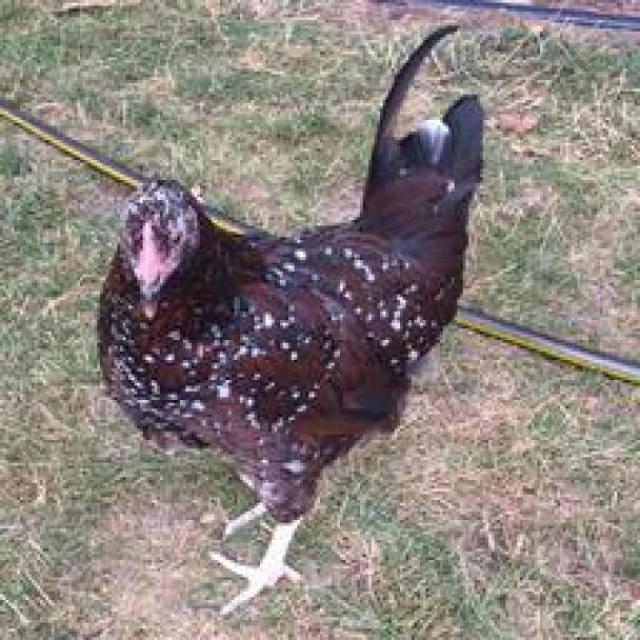Chicken: (51, 39, 595, 632)
